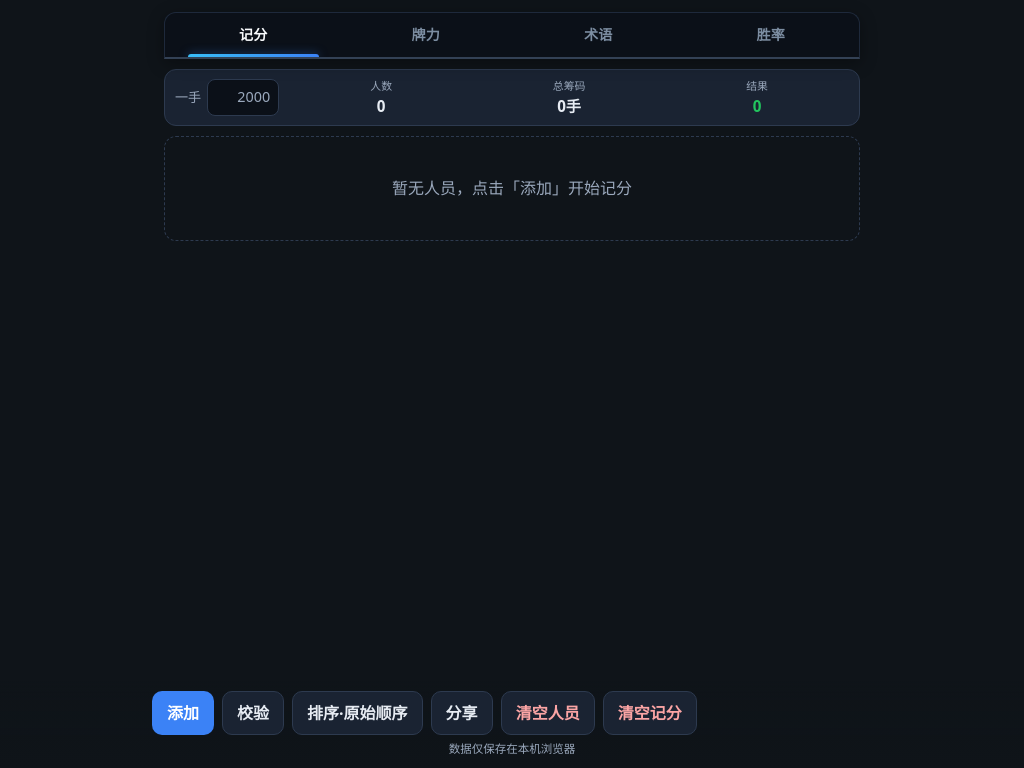
Test: App integration › steps buy-in by unitPerHand
Click the button "添加": (183, 713) [152,691,214,735]
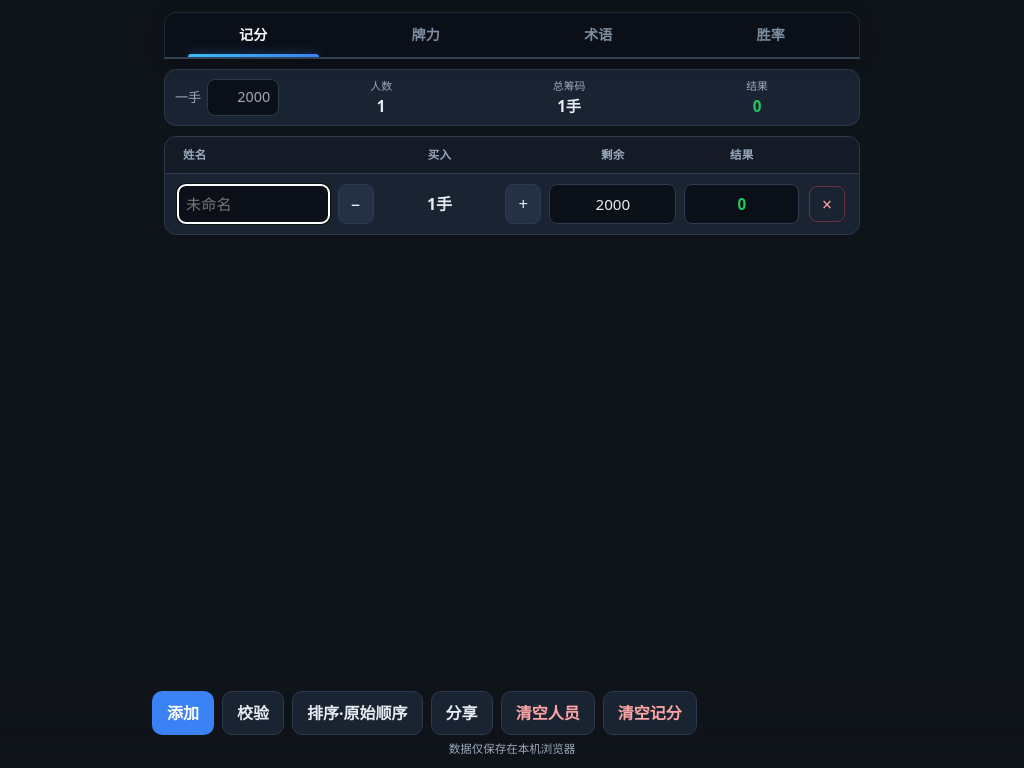
Click the button named "增加买入": (523, 204) [505,184,541,224]
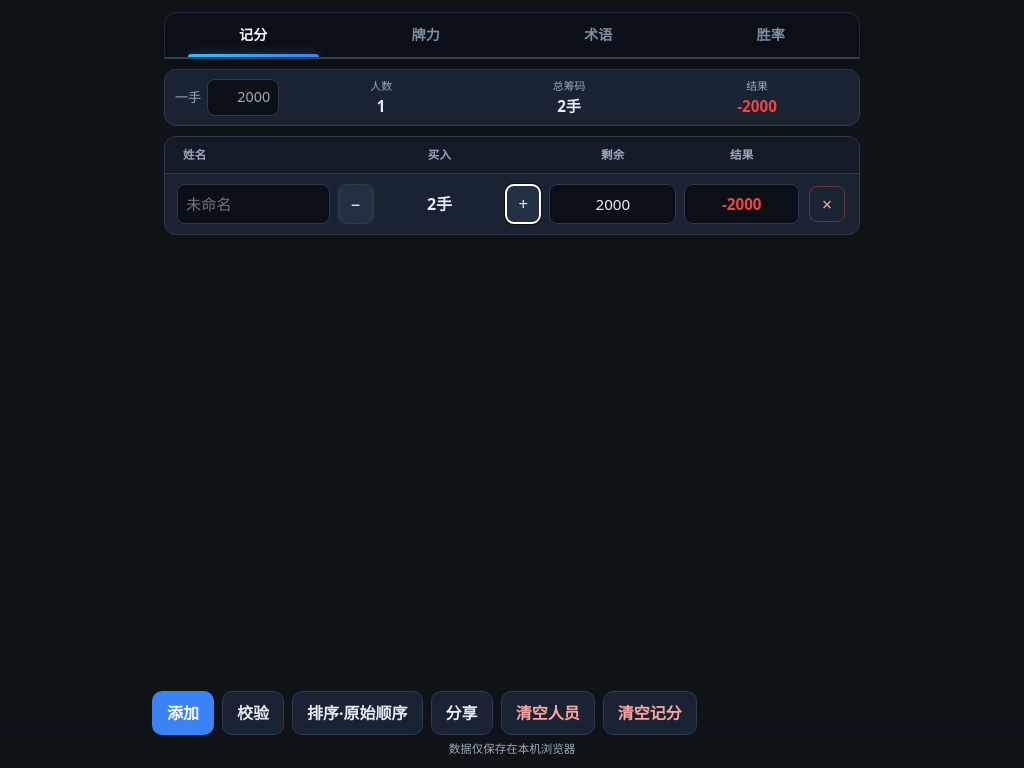
Result: the text named "买入" reads "2手" at [427,193,452,215]
Result: the text named "结果" reads "-2000" at [722,194,762,214]
